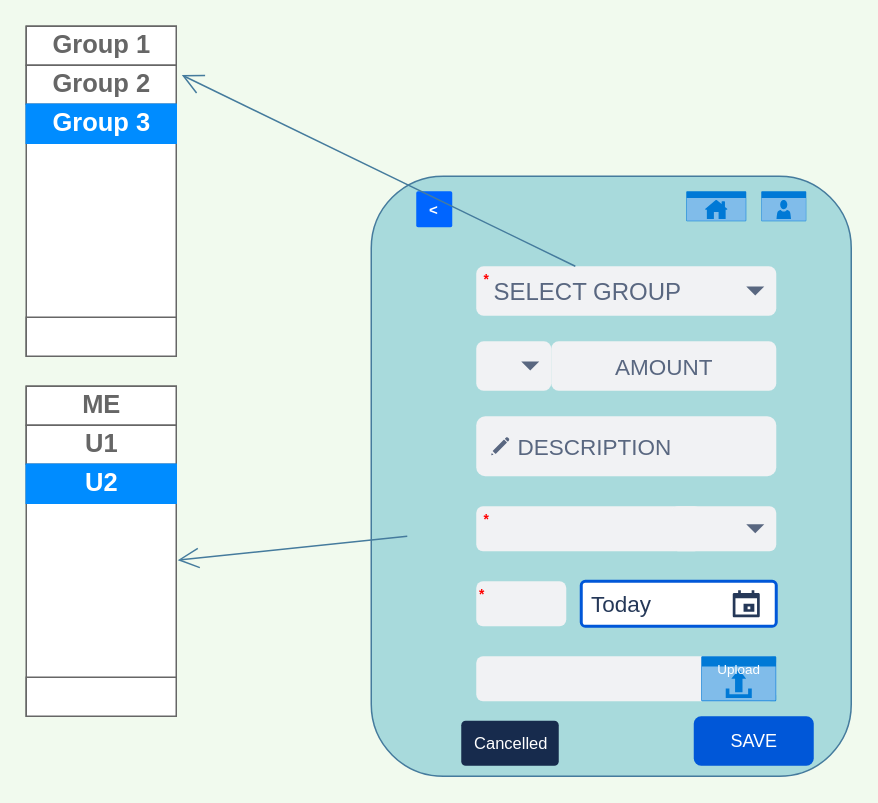
The diagram is 878 pixels wide and 803 high, and some of its shapes have lost their labels. Each missing label, with the box of its shape:
ADD IMAGE: (476, 656, 776, 700)
DATE: (476, 580, 566, 626)
PAID_BY: (476, 506, 700, 550)
RS: (476, 340, 550, 390)
